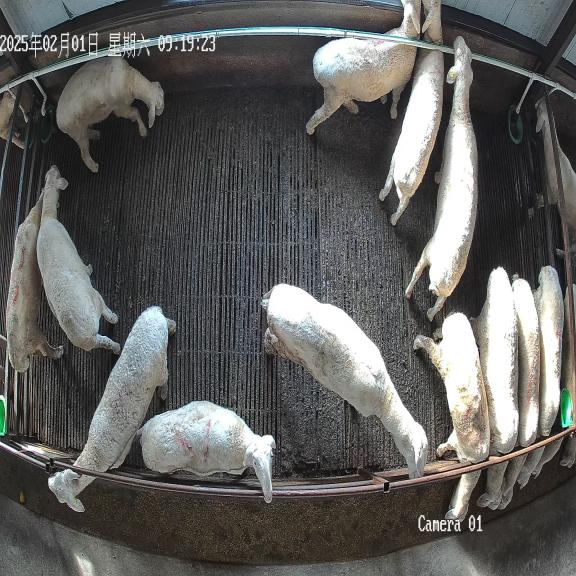eating: (414, 312, 490, 521), (488, 275, 540, 510), (471, 267, 519, 510), (517, 266, 564, 489)
stand: (262, 284, 428, 478), (48, 306, 176, 512), (405, 36, 478, 321), (379, 0, 449, 225), (37, 166, 120, 354), (306, 0, 421, 134), (140, 401, 275, 503), (56, 56, 164, 172), (5, 189, 62, 372)
